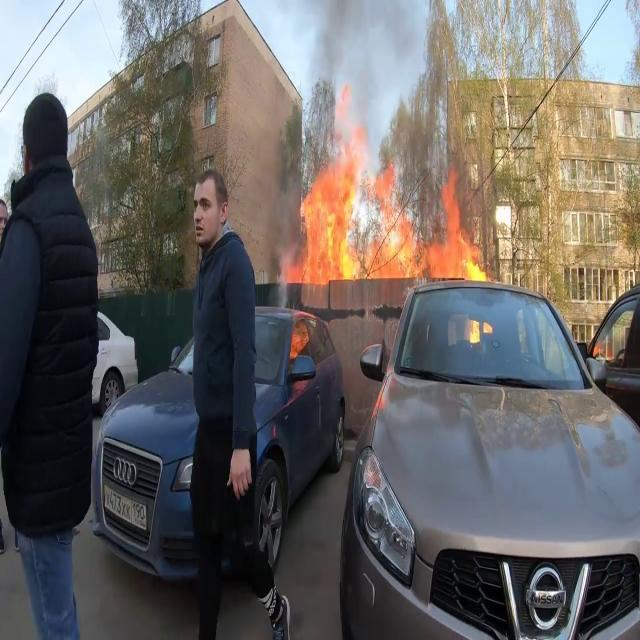Fire: (285, 137, 491, 286)
Smoke: (314, 0, 431, 153)
